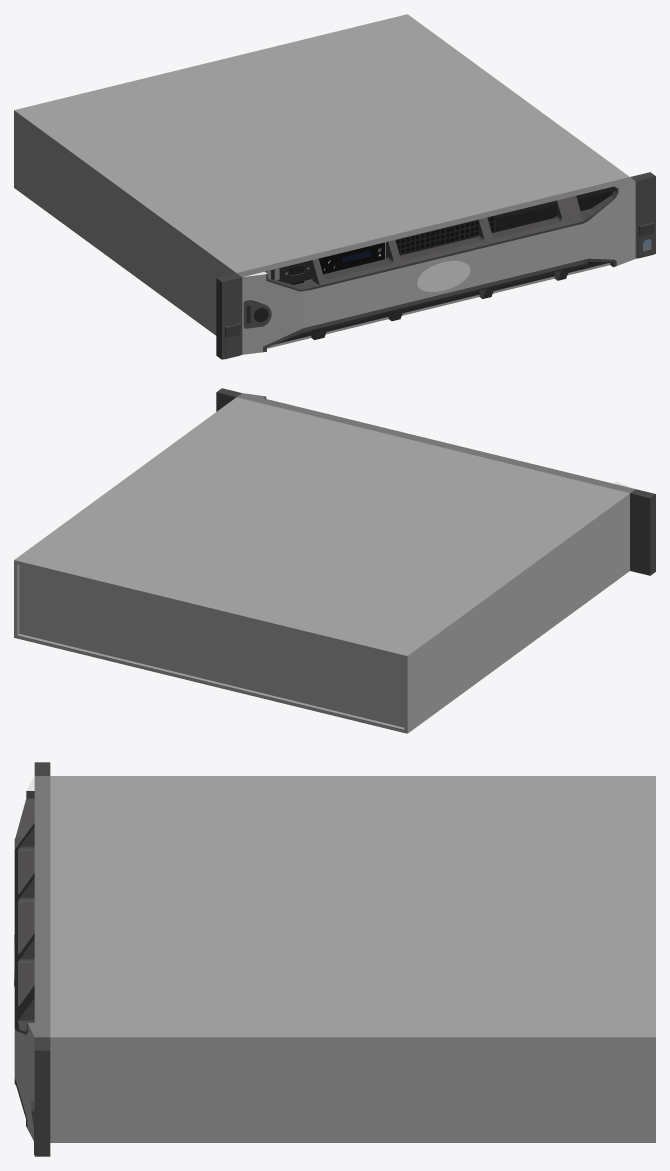
File: Unisys ES3000 Model 3580R G3.glb
3 renders of one model, top to bottom at view 1: azimuth 30°, elevation 25°; view 2: azimuth 150°, elevation 25°; view 3: azimuth 270°, elevation 25°, orthographic. The views are drawn at different scales.
Parts seen in each view (by area): view 1: root, object 4; view 2: root; view 3: root, object 4.
Part boxes in pixels (<box>): root: <box>14,14,655,359</box>; object 4: <box>242,181,635,354</box>; root: <box>14,388,655,733</box>; root: <box>31,762,655,1156</box>; object 4: <box>14,776,34,1140</box>.
Bounding box in the file's own units: 0.5322 × 0.091 × 0.5008.
33 materials, 3 textured.
